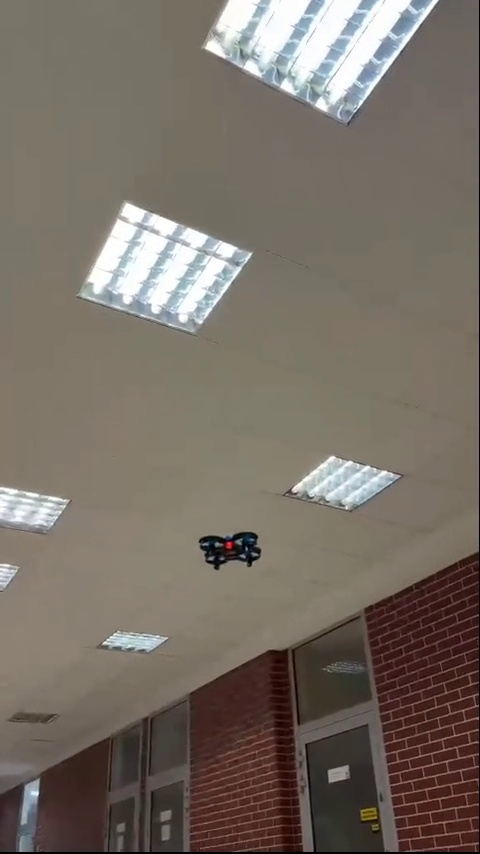drone: (195, 533, 261, 571)
